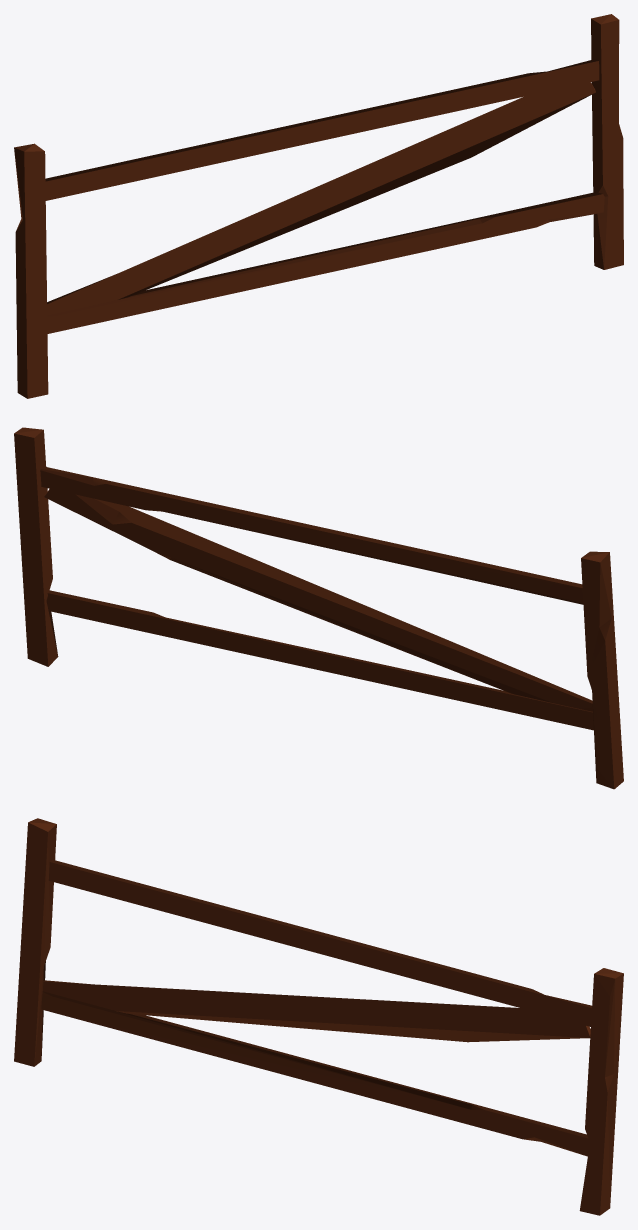
The model's file is SM_fence_wooden_03.fbx.
3 views of the same model, one above another, from view 1: azimuth 30°, elevation 25°; view 2: azimuth 150°, elevation 25°; view 3: azimuth 330°, elevation 25° (orthographic). The views are drawn at different scales.
Parts seen in each view (by area): view 1: Object017; view 2: Object017; view 3: Object017.
Part boxes in pixels (x1,y1,x2,y2): Object017: (14, 14, 623, 398); Object017: (14, 427, 623, 789); Object017: (14, 818, 623, 1215).
Bounding box in the file's own units: 90.85 × 5.2 × 36.73.
